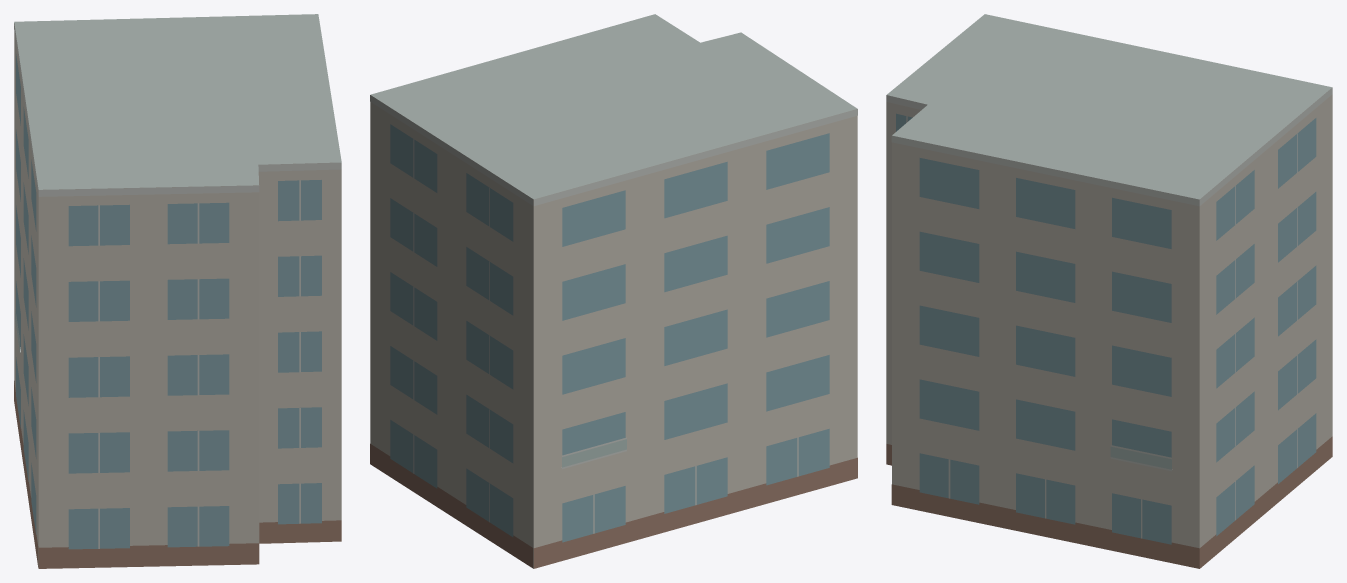
File: survey-upis-32893401.glb
The picture shows the model from 3 angles, left to right: view 1: azimuth 30°, elevation 25°; view 2: azimuth 150°, elevation 25°; view 3: azimuth 270°, elevation 25°; orthographic projection. The views are drawn at different scales.
Visible parts, largest first — view 1: survey-upis-32893401.tmp; view 2: survey-upis-32893401.tmp; view 3: survey-upis-32893401.tmp.
Part boxes in pixels (x1,y1,x2,y2): survey-upis-32893401.tmp: (14, 14, 341, 568); survey-upis-32893401.tmp: (370, 14, 857, 568); survey-upis-32893401.tmp: (886, 14, 1332, 568).
Bounding box in the file's own units: 14.23 × 13.2 × 14.46.
